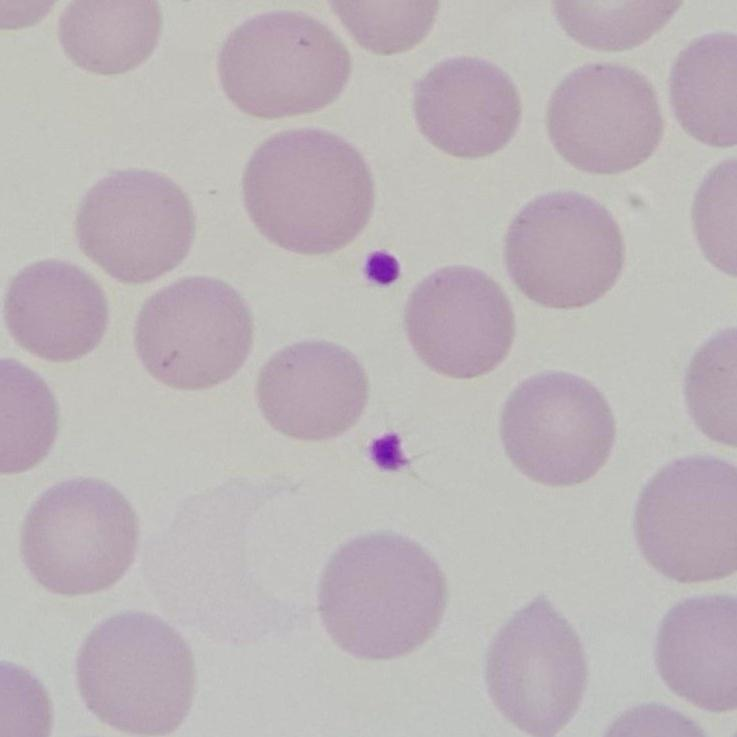Uninfected: (314, 532, 445, 663), (241, 129, 373, 257), (74, 609, 196, 734), (20, 472, 141, 595), (214, 15, 350, 119), (489, 597, 590, 737), (633, 452, 737, 586), (74, 166, 194, 282), (506, 193, 622, 309), (500, 370, 614, 486), (137, 277, 254, 389), (550, 65, 663, 176), (406, 263, 516, 377), (7, 260, 114, 363), (417, 56, 519, 160), (259, 340, 369, 436), (659, 592, 737, 709), (56, 0, 161, 73)
